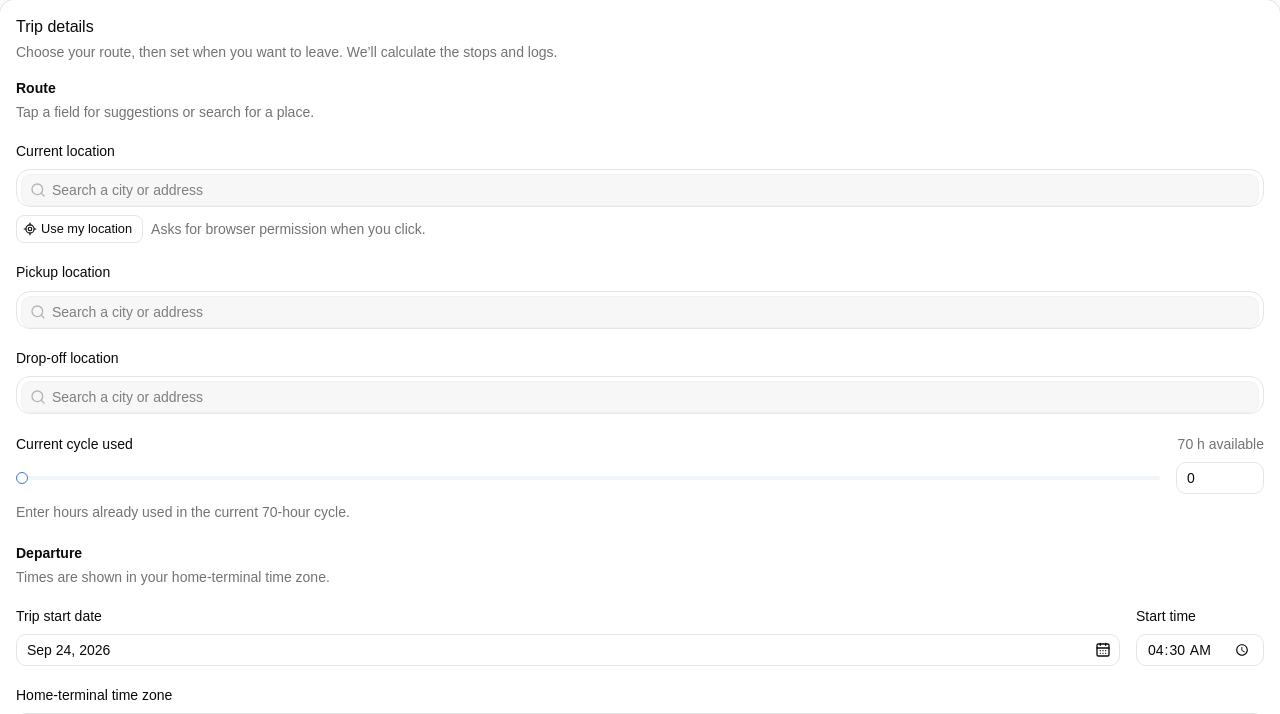
TripForm › fills the known multi-day sample trip
Type "Part" into the dropdown with test id "input-current". click: coordinates (652, 190)
box: top-left (46, 180), bottom-right (1258, 200)
(page scrolled)
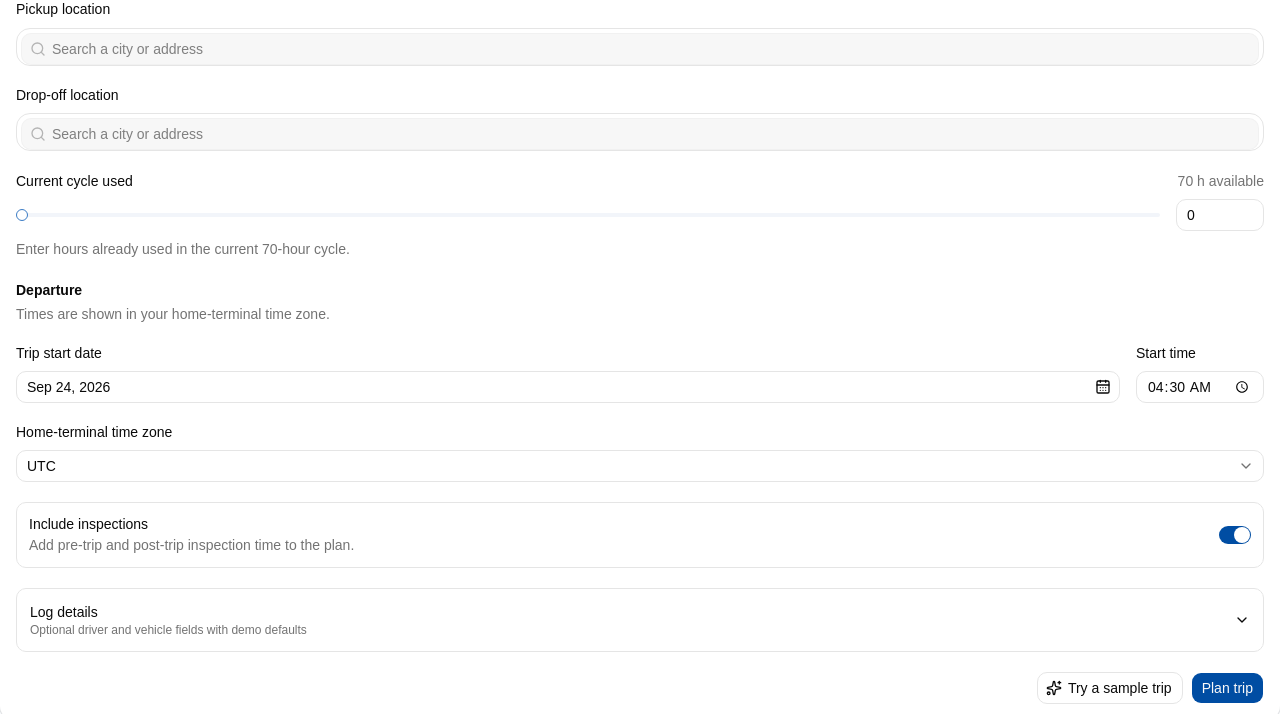
Click the button "Try a sample trip". click: coordinates (1110, 688)
box: top-left (1037, 672), bottom-right (1183, 704)
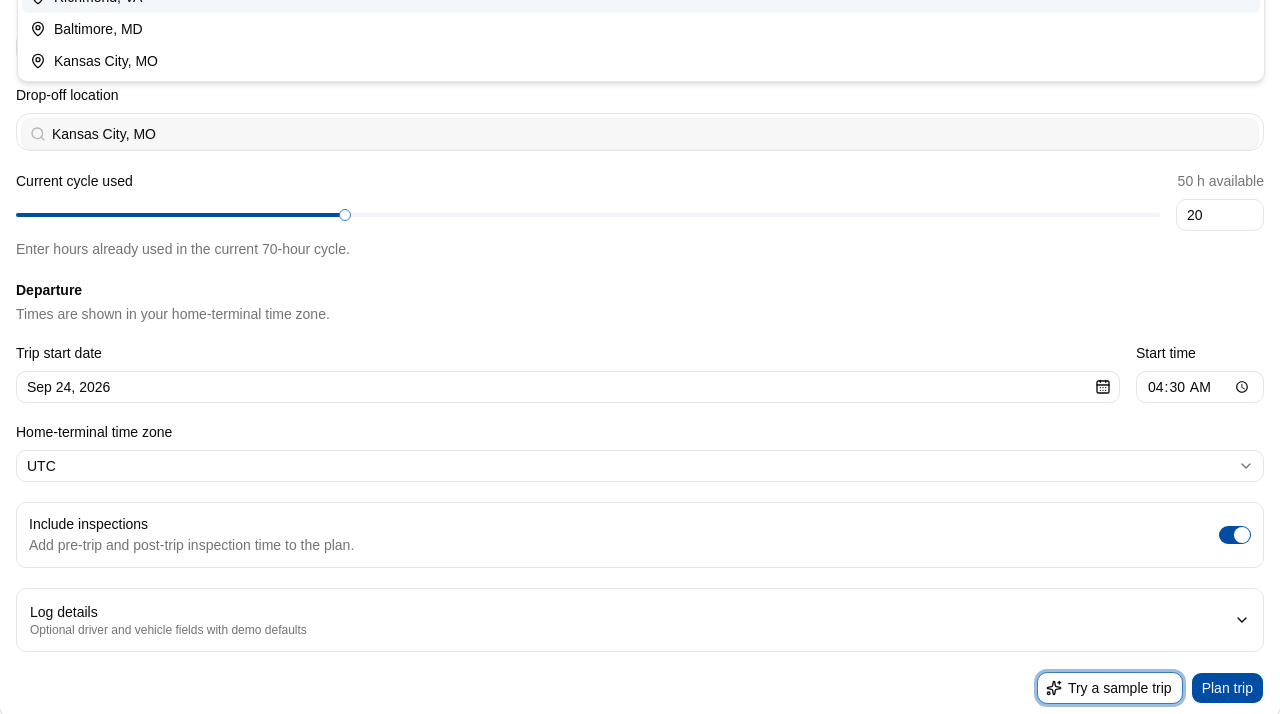
Now the dropdown with test id "input-pickup" holds "Baltimore, MD", box top-left (46, 38), bottom-right (1258, 58)
Now the dropdown with test id "input-dropoff" holds "Kansas City, MO", box top-left (46, 124), bottom-right (1258, 144)
Now the number field with test id "input-cycle-used" holds "20", box top-left (1176, 199), bottom-right (1264, 231)
